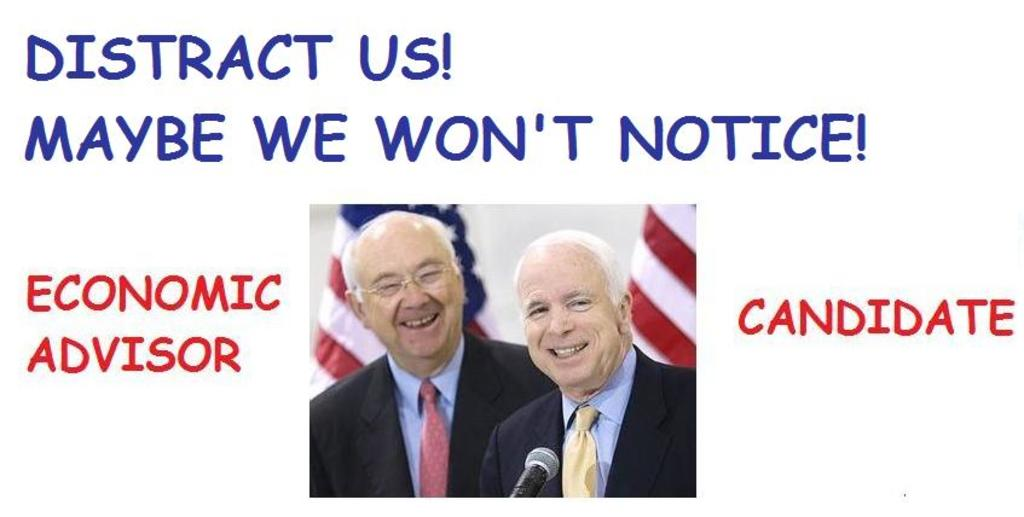Person: (308, 211, 558, 497), (477, 229, 696, 497)
